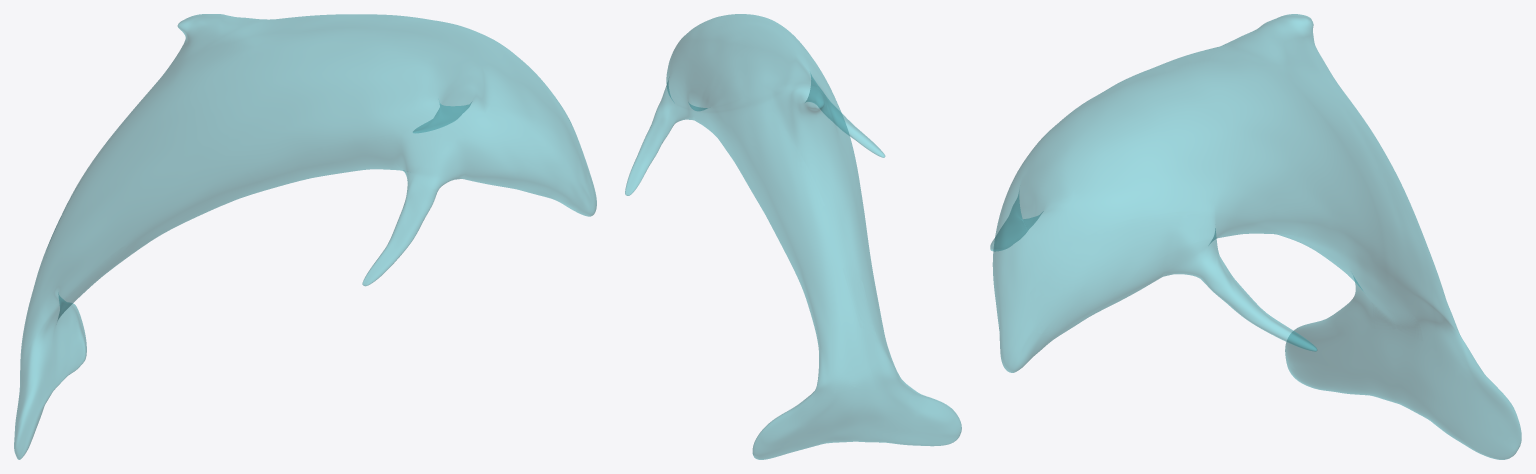
Rendered from Dolphin.glb.
3 renders of one model, left to right at view 1: azimuth 30°, elevation 25°; view 2: azimuth 150°, elevation 25°; view 3: azimuth 270°, elevation 25°, orthographic. The views are drawn at different scales.
Visible parts, largest first — view 1: Object_8; view 2: Object_8; view 3: Object_8.
Part boxes in pixels (bbox=[...]): Object_8: bbox=[14, 14, 596, 459]; Object_8: bbox=[625, 14, 961, 459]; Object_8: bbox=[990, 14, 1521, 459].
Size of the model in its own units: 2.68 by 2.24 by 2.29.
